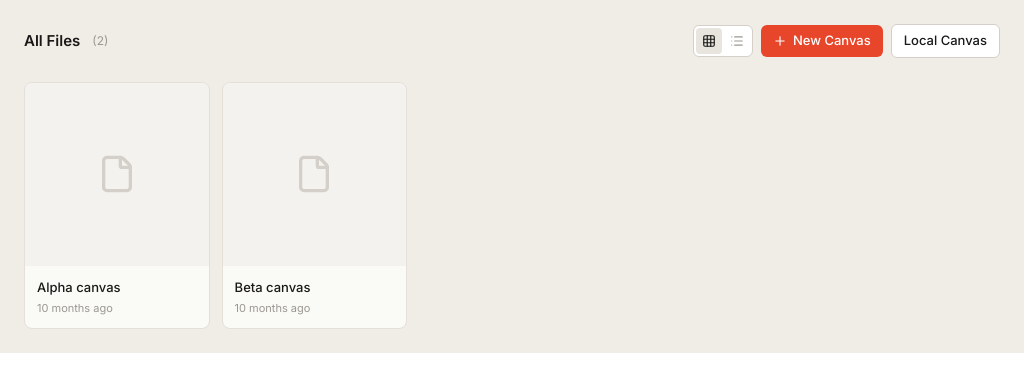
Scenario: FileBrowser › file list › shows the grid by default and switches to list on request
Step 1. Click the button named "list view" → coordinates (737, 41), box [724,28,750,54]
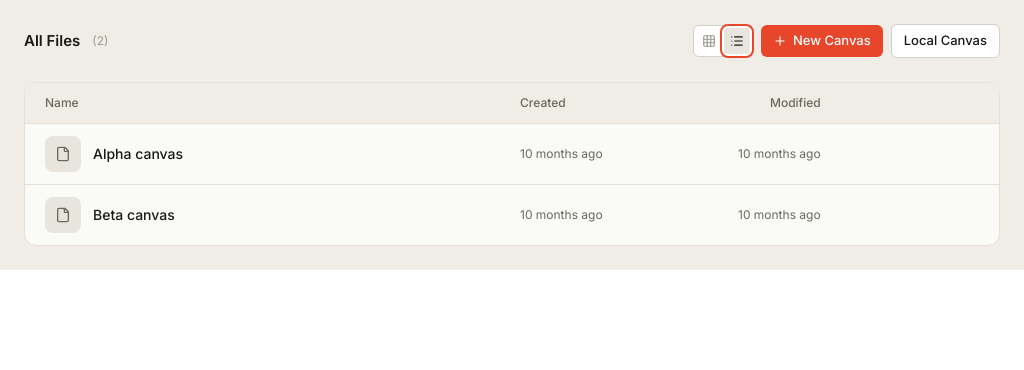
Result: the link "Alpha canvas" is shown at [25,124,999,184]
